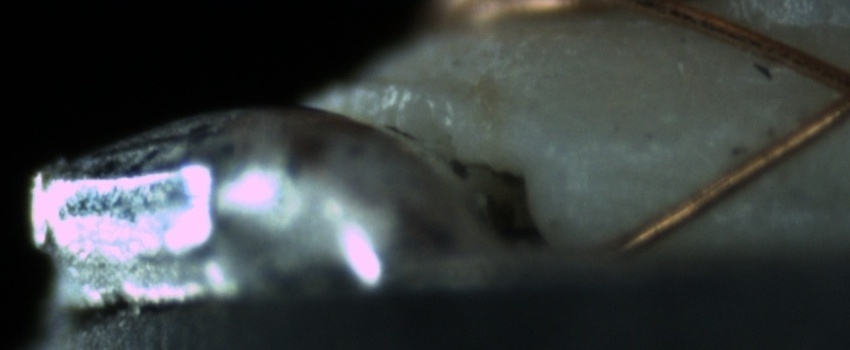CL: (808, 53, 850, 128)
DL: (559, 128, 717, 181)
